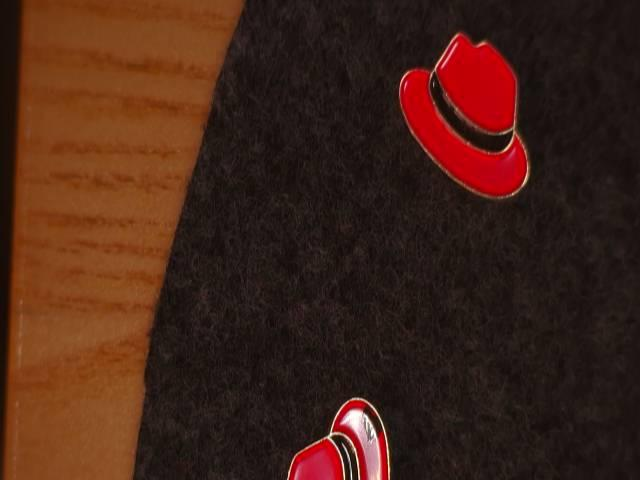Red-Hat: (364, 26, 543, 231), (271, 373, 414, 480)
Scratch: (353, 398, 395, 450)
